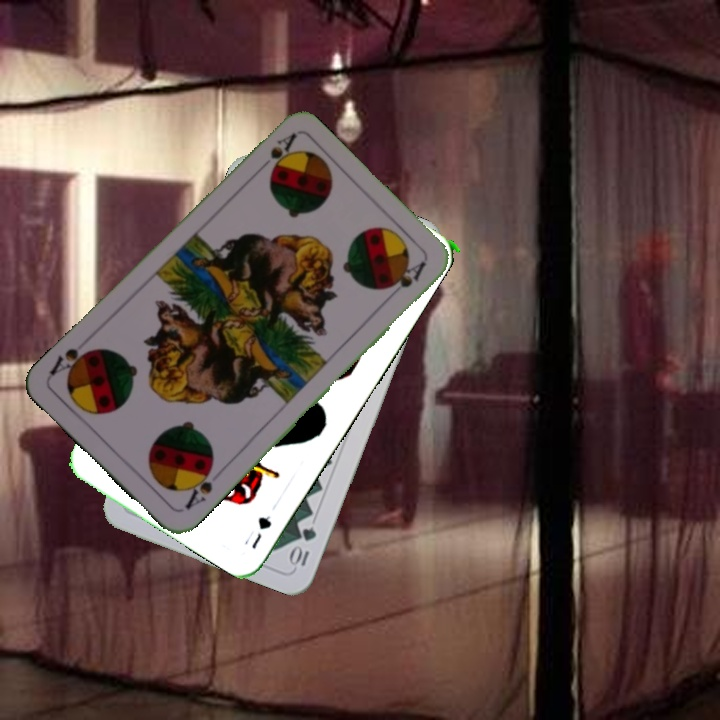G10: (287, 523, 319, 569)
GU: (247, 511, 275, 552)
SA: (251, 130, 299, 177), (180, 460, 217, 512)
